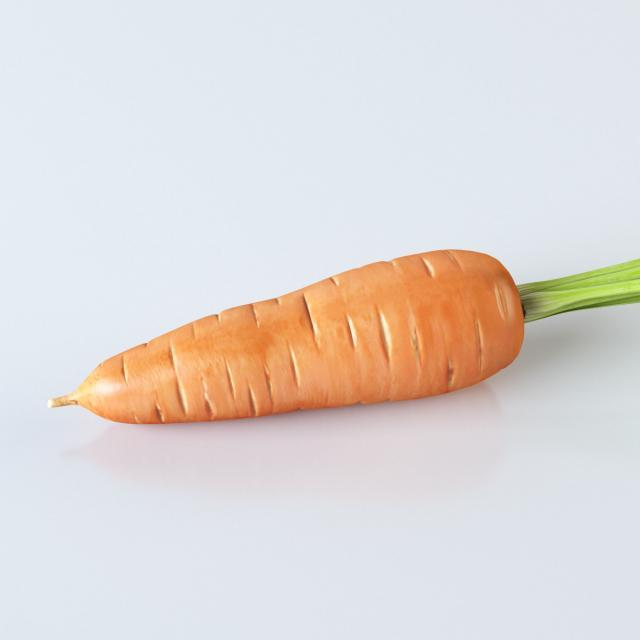carrot: (47, 239, 545, 429)
